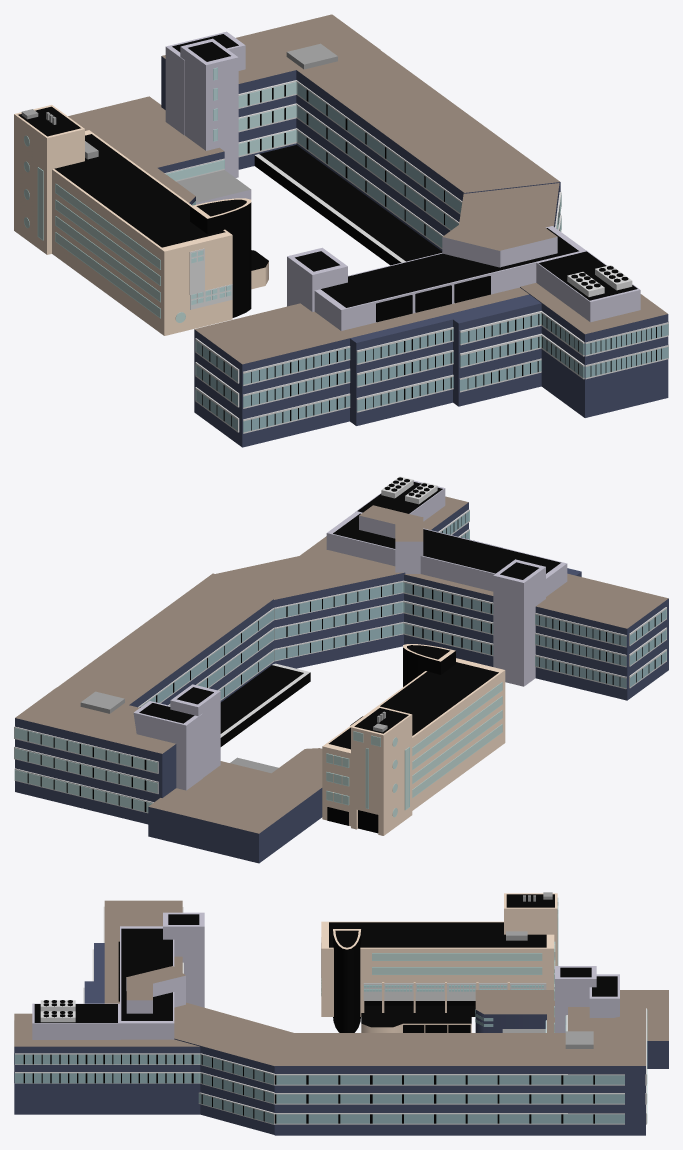
Rendered from police building.fbx.
The picture shows the model from 3 angles, top to bottom: view 1: azimuth 30°, elevation 25°; view 2: azimuth 150°, elevation 25°; view 3: azimuth 270°, elevation 25°; orthographic projection. The views are drawn at different scales.
Visible parts, largest first — view 1: pCube1, pCube4, pCube6, pCube2, pCube10, pCube238, pCube8, pCube7, pCube14, pCube5, pCube3, pCube9 (+42 smaller); view 2: pCube1, pCube4, pCube3, pCube6, pCube5, pCube8, pCube10, pCube7, pCube11, pCube238, pCube15, pCube14 (+29 smaller); view 3: pCube4, pCube6, pCube2, pCube8, pCube3, pCube10, pCube311, pCube312, pCube313, pCube1, pCube174, pCylinder1 (+18 smaller).
Part boxes in pixels (left/top/right/bottom): pCube1: left=194, top=287, right=541, bottom=447; pCube4: left=296, top=49, right=560, bottom=251; pCube6: left=52, top=130, right=232, bottom=335; pCube2: left=520, top=283, right=668, bottom=417; pCube10: left=314, top=226, right=584, bottom=330; pCube238: left=254, top=145, right=442, bottom=265; pCube8: left=161, top=14, right=380, bottom=169; pCube7: left=14, top=105, right=84, bottom=254; pCube14: left=180, top=38, right=238, bottom=177; pCube5: left=68, top=96, right=224, bottom=172; pCube3: left=459, top=183, right=559, bottom=234; pCube9: left=536, top=250, right=640, bottom=322; pCube1: left=404, top=530, right=668, bottom=700; pCube4: left=57, top=573, right=273, bottom=707; pCube3: left=215, top=550, right=405, bottom=668; pCube6: left=322, top=658, right=505, bottom=826; pCube5: left=148, top=761, right=322, bottom=863; pCube8: left=15, top=687, right=176, bottom=824; pCube10: left=326, top=512, right=567, bottom=596; pCube7: left=351, top=706, right=412, bottom=835; pCube11: left=493, top=559, right=545, bottom=686; pCube238: left=220, top=663, right=310, bottom=746; pCube15: left=133, top=701, right=202, bottom=790; pCube14: left=170, top=684, right=220, bottom=777; pCube4: left=274, top=1033, right=568, bottom=1135; pCube6: left=321, top=921, right=554, bottom=1016; pCube2: left=14, top=1013, right=200, bottom=1114; pCube8: left=568, top=998, right=645, bottom=1135; pCube3: left=174, top=1002, right=294, bottom=1134; pCube10: left=120, top=926, right=174, bottom=1039; pCube311: left=274, top=1074, right=624, bottom=1085; pCube312: left=274, top=1093, right=624, bottom=1104; pCube313: left=274, top=1113, right=624, bottom=1124; pCube1: left=84, top=900, right=182, bottom=1003; pCube174: left=475, top=990, right=547, bottom=1032; pCylinder1: left=333, top=929, right=361, bottom=1032.
Size of the model in its own units: 406 by 119 by 668.
